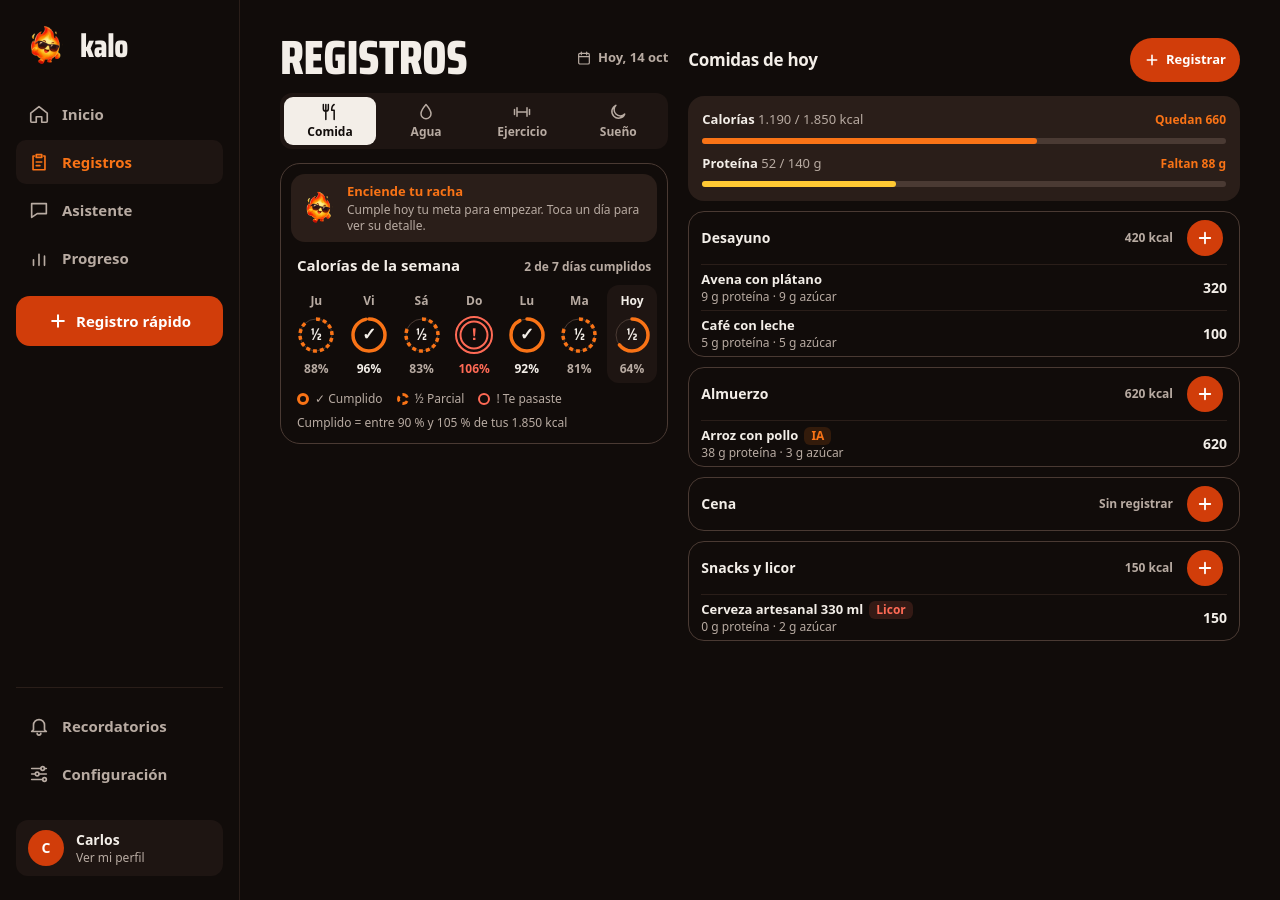
Registros · Comida › añade una comida a mano y la suma al día
Click the link named "Añadir a Snacks y licor". click: (1205, 568)
box: [1187,550,1223,586]
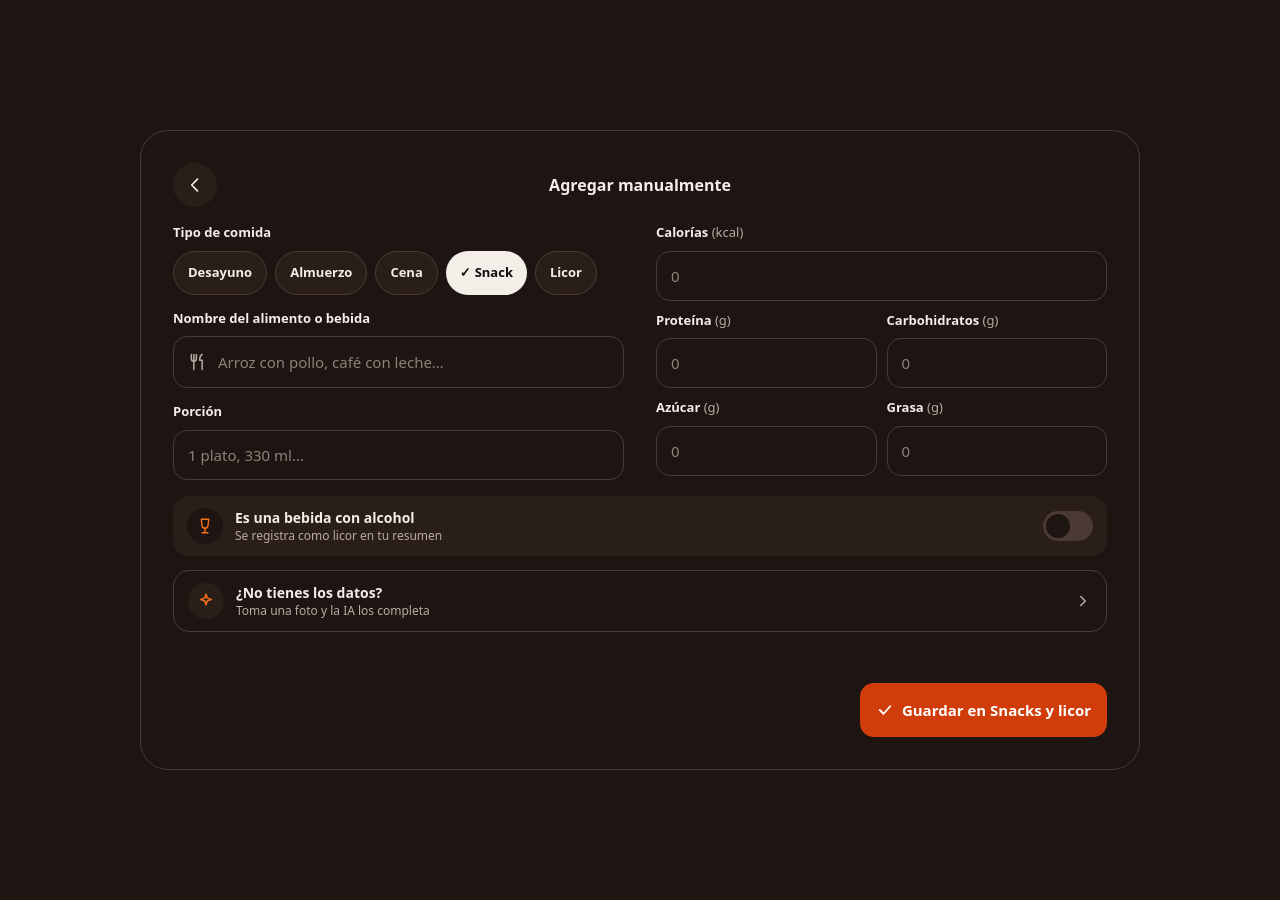
Now the heading "Agregar manualmente" is shown, box [549,174,731,196]
Click the button "Guardar en Snacks y licor". click: (983, 710)
box: [860,683,1107,737]
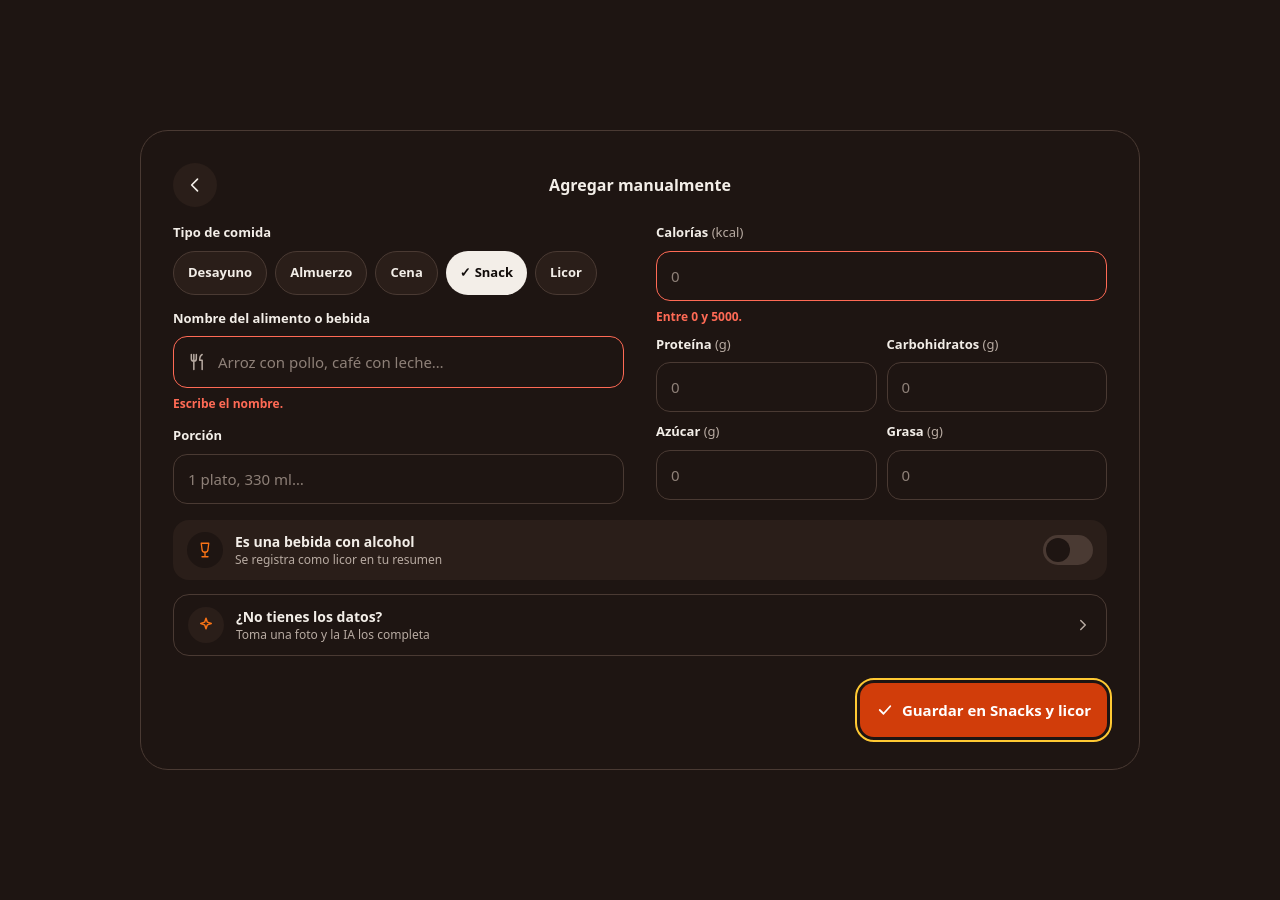
Now the text "Escribe el nombre." is shown, box [173,395,283,412]
Type "Yogur griego" into the field labelled "Nombre del alimento o bebida". click: (414, 362)
box: [218,351,609,373]
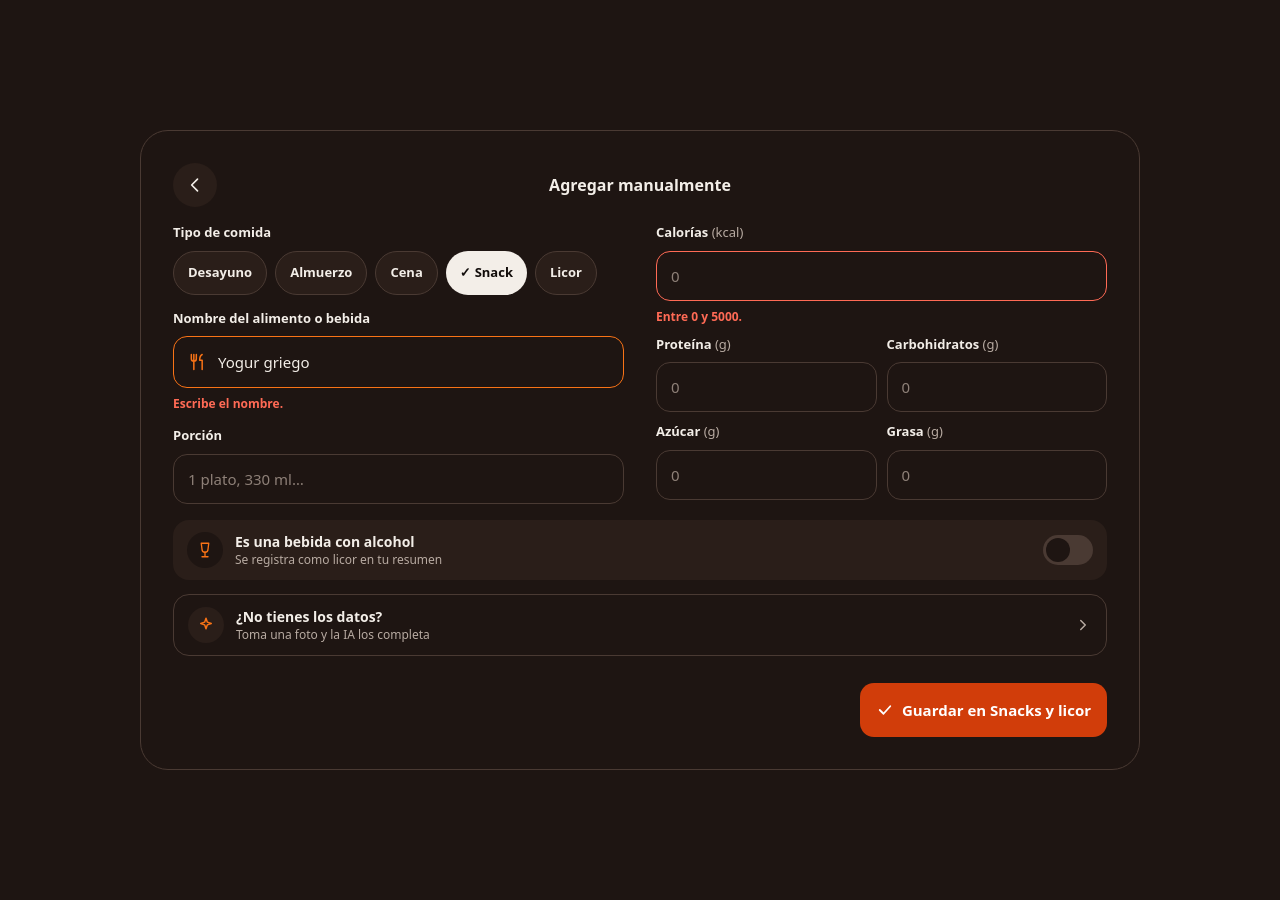
Type "120" into the field labelled "Calorías (kcal) Entre 0 y 5000.". click: (882, 276)
box: [656,250,1107,300]
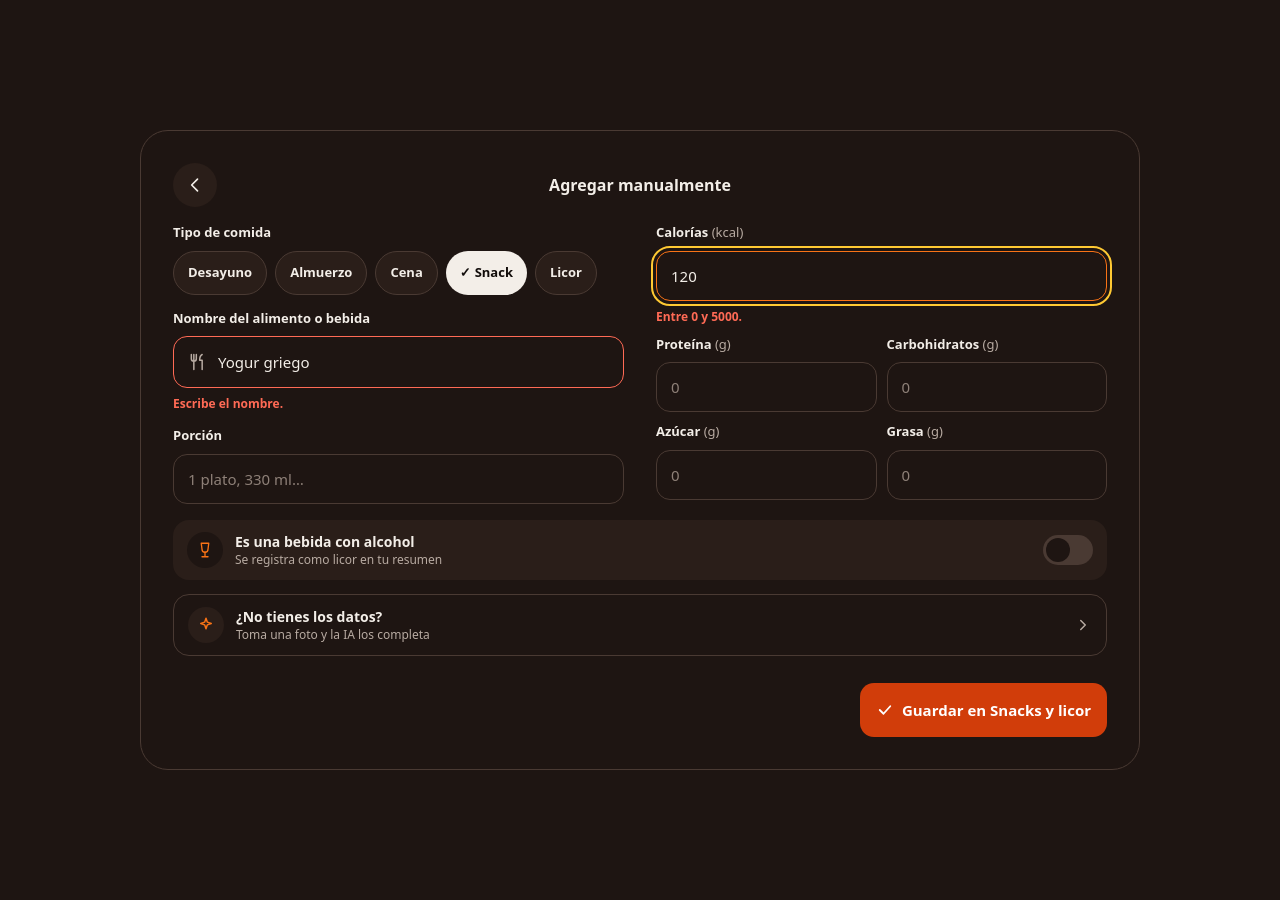
Type "10,5" into the field labelled "Proteína (g)". click: (766, 387)
box: [656,362,876,412]
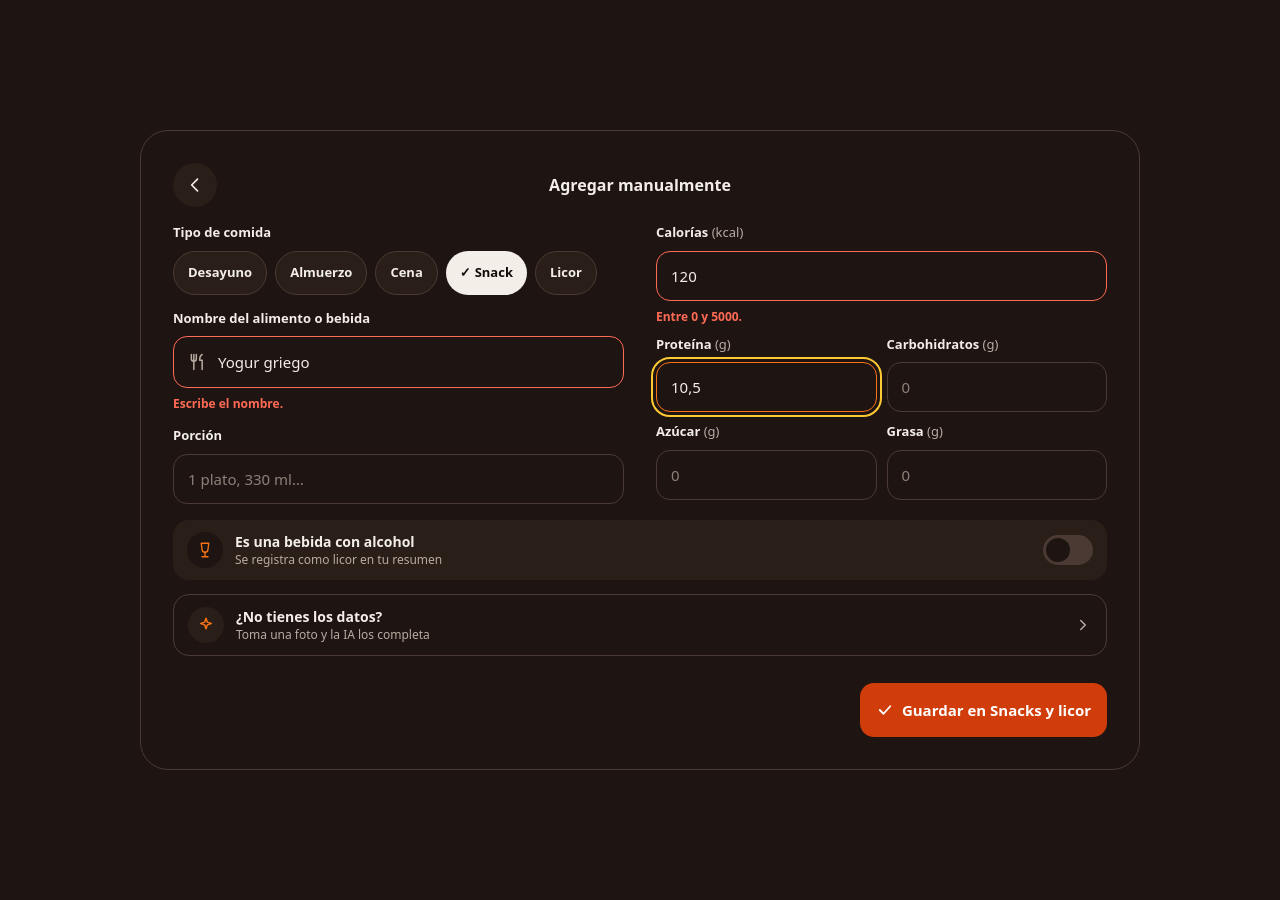
Click the button "Guardar en Snacks y licor". click: (983, 710)
box: [860,683,1107,737]
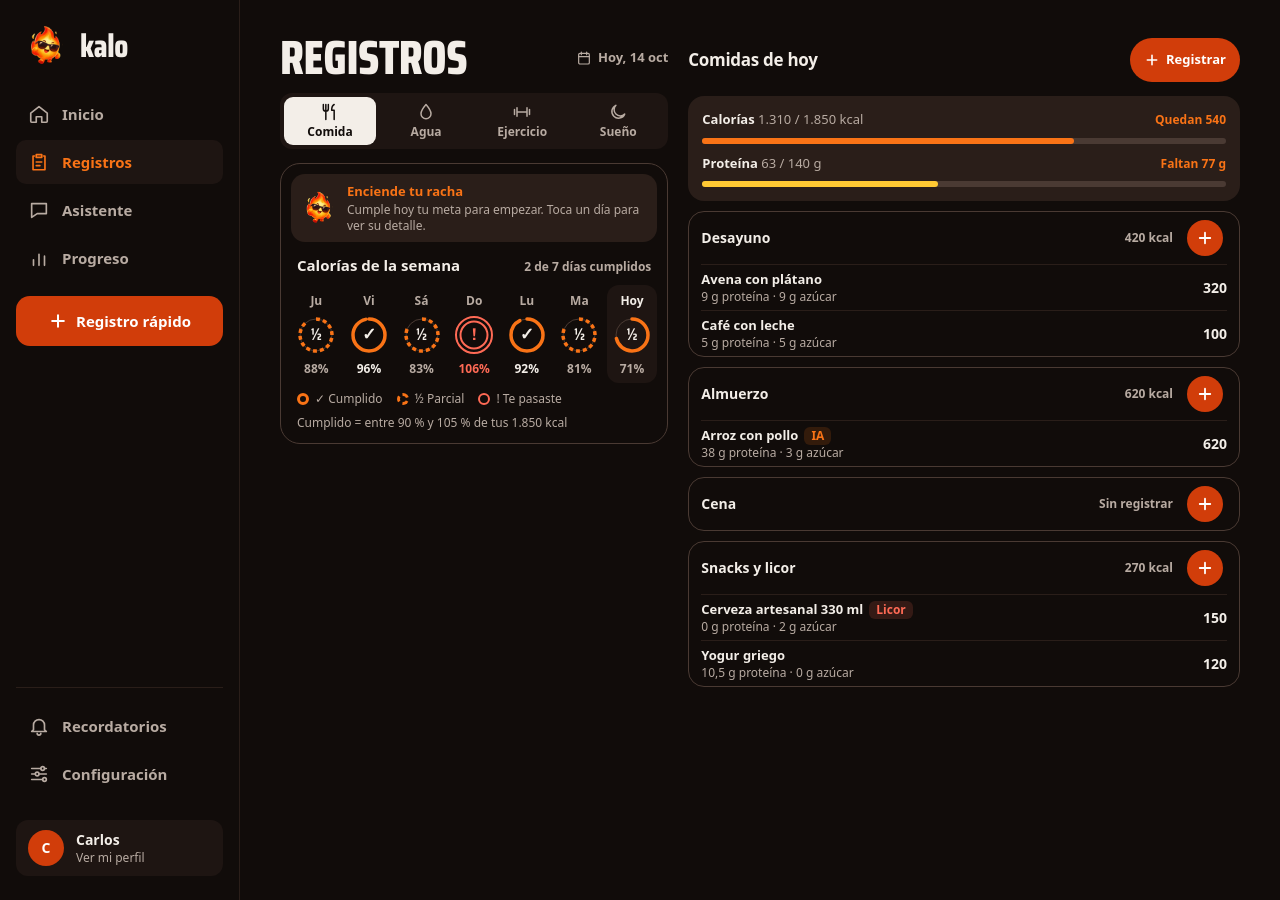
Now the link "Yogur griego 10,5 g proteína · 0 g azúcar 120" is shown, box [701,640,1227,686]
Now the text "1.310 / 1.850 kcal" is shown, box [758,110,863,128]
Now the text "63 / 140 g" is shown, box [761,154,822,172]
